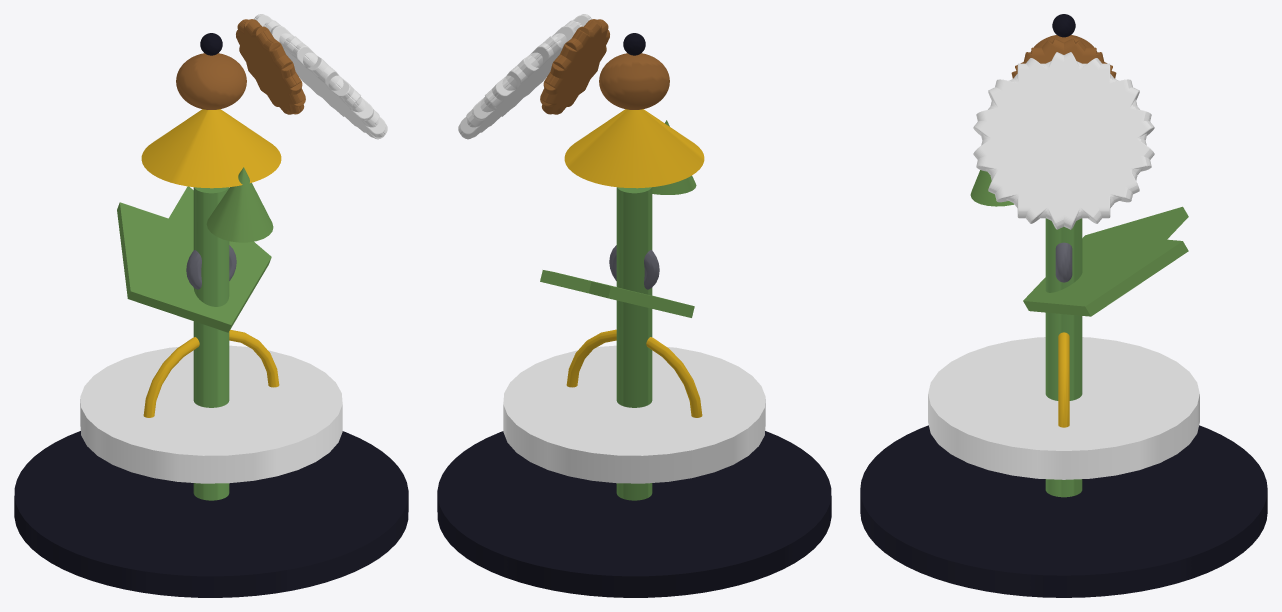
The model's file is 0085_植物图鉴_向日葵.glb.
The picture shows the model from 3 angles, left to right: view 1: azimuth 30°, elevation 25°; view 2: azimuth 150°, elevation 25°; view 3: azimuth 270°, elevation 25°; orthographic projection. The views are drawn at different scales.
Visible parts, largest first — view 1: card_0085; view 2: card_0085; view 3: card_0085.
Part boxes in pixels (x1=…): card_0085: x1=14, y1=14, x2=408, y2=597; card_0085: x1=437, y1=14, x2=831, y2=597; card_0085: x1=860, y1=14, x2=1267, y2=597.
Bounding box in the file's own units: 0.7433 × 1 × 0.7433.
